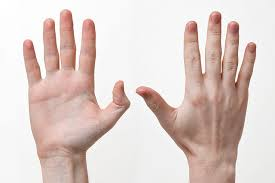hand: (138, 4, 264, 164), (11, 6, 133, 154)
